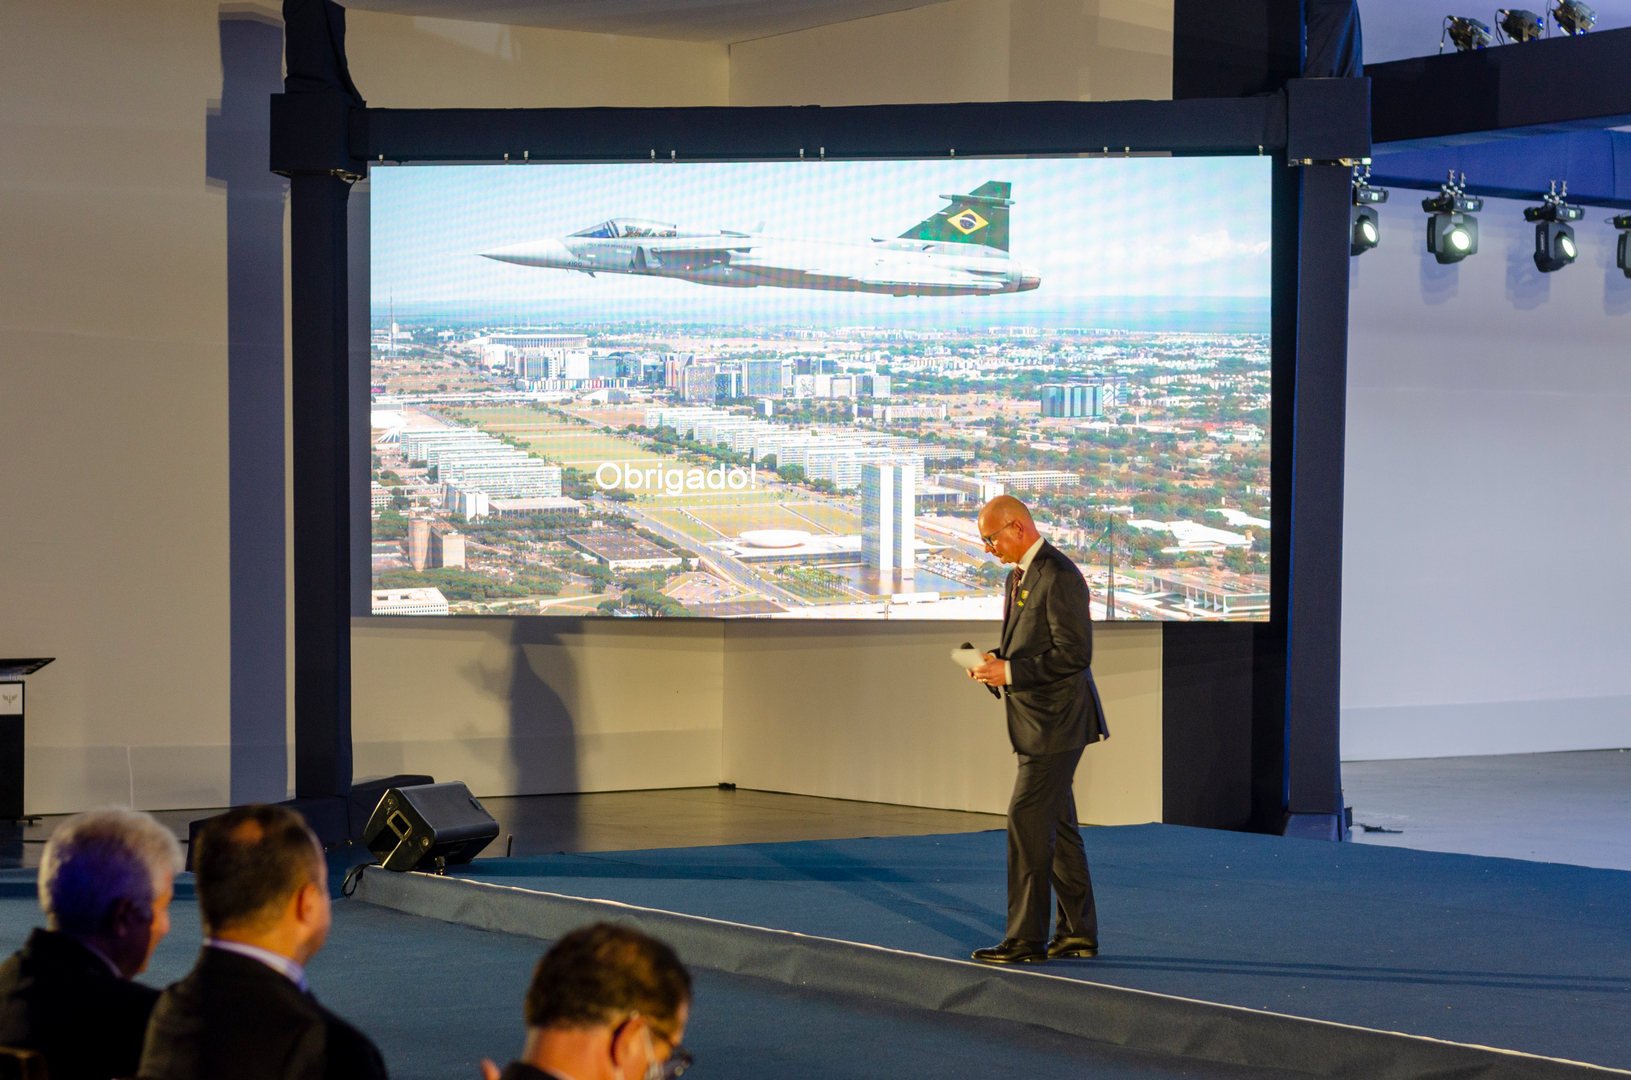JAS39: (444, 180, 1042, 298)
